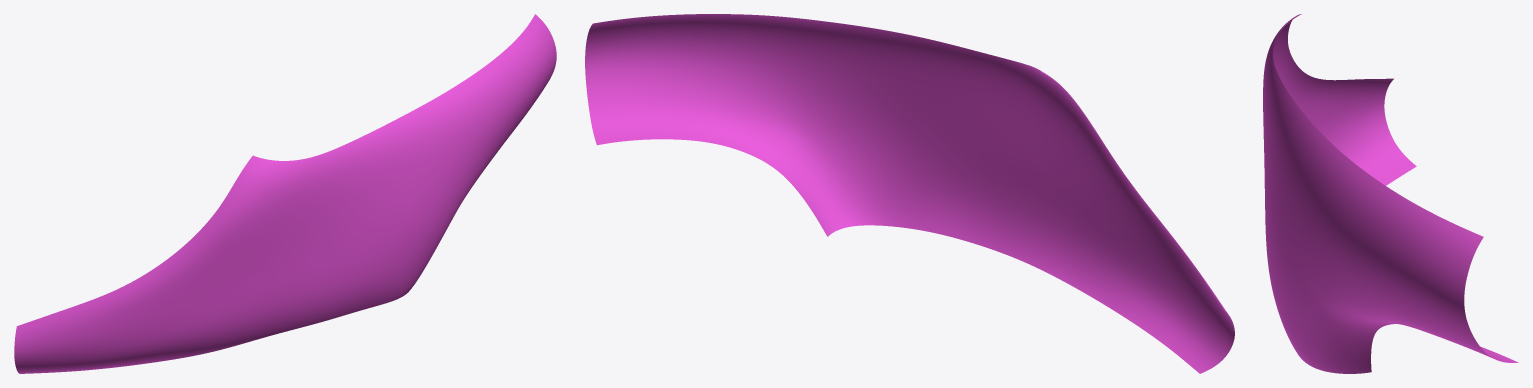
Rendered from cuban_side_flat.glb.
3 views of the same model, side by side, from view 1: azimuth 30°, elevation 25°; view 2: azimuth 150°, elevation 25°; view 3: azimuth 270°, elevation 25° (orthographic). The views are drawn at different scales.
Parts seen in each view (by area): view 1: cuban_side_flat; view 2: cuban_side_flat; view 3: cuban_side_flat.
Boxes of the visible parts, left/top/right/bottom form: cuban_side_flat: left=14, top=14, right=556, bottom=373; cuban_side_flat: left=585, top=14, right=1234, bottom=373; cuban_side_flat: left=1263, top=14, right=1518, bottom=373.
Bounding box in the file's own units: 0.1365 × 0.0483 × 0.0384.
